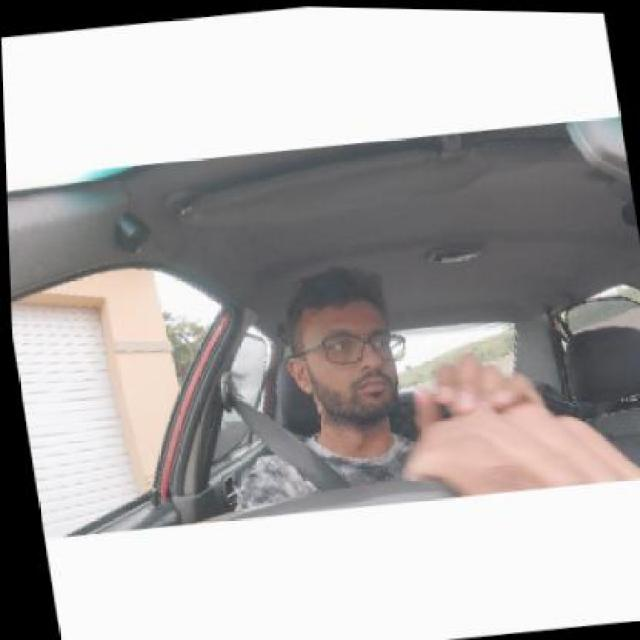person: (278, 268, 412, 426)
